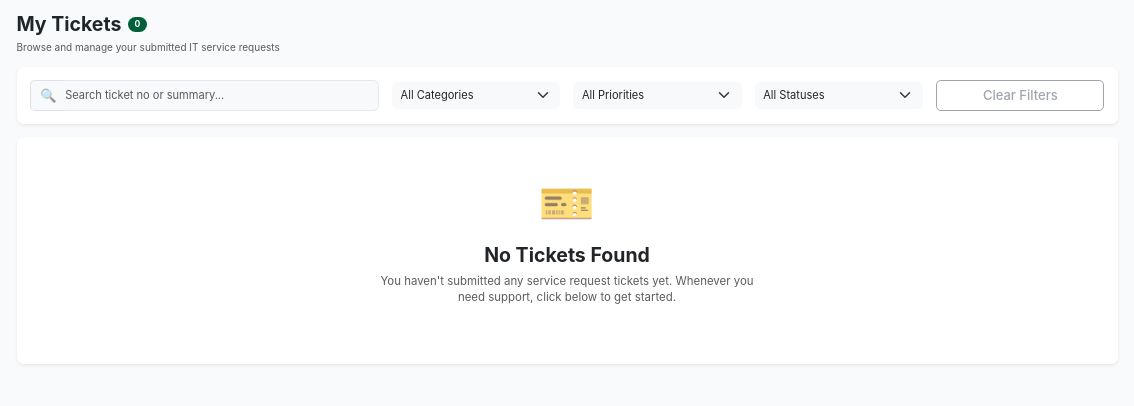
Test case: MyTicketsList Component › renders distinct No-Results state when search yields 0 matches
Type "NonExistentKeyword" into the field with test id "search-input".
click(222, 95); type("NonExistentKeyword")  # box [65,80,379,111]
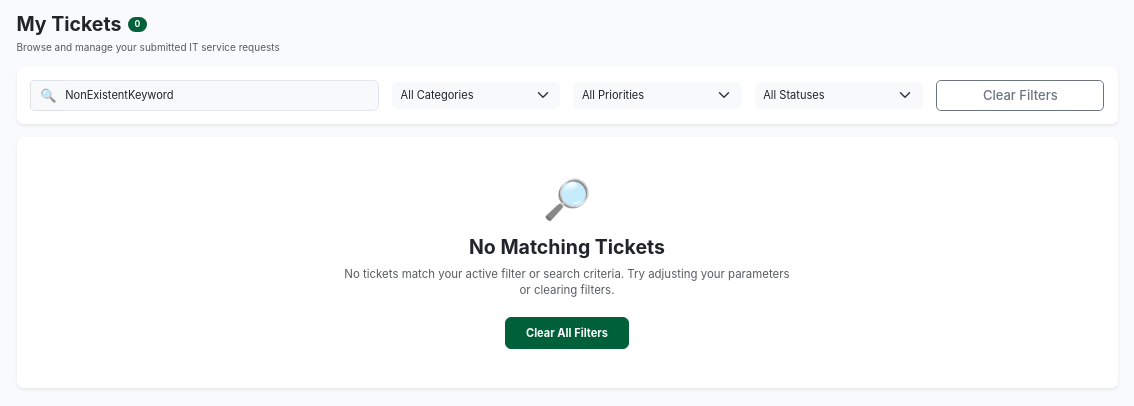
Result: the element with test id "no-results-state" is shown at [16,137,1118,388]
Result: the heading "No Matching Tickets" is shown at [469,235,665,259]
